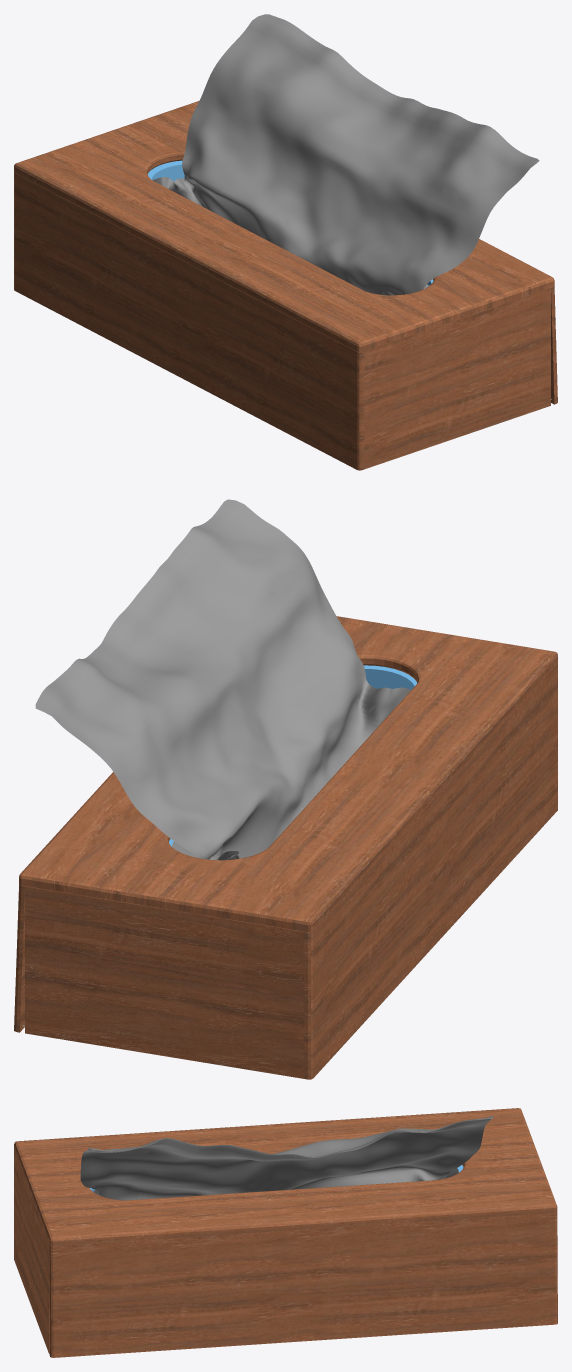
File: tissue-box.glb
The picture shows the model from 3 angles, top to bottom: view 1: azimuth 30°, elevation 25°; view 2: azimuth 150°, elevation 25°; view 3: azimuth 270°, elevation 25°; orthographic projection. The views are drawn at different scales.
Parts seen in each view (by area): view 1: Object_5, Object_7; view 2: Object_5, Object_7, Object_4; view 3: Object_5, Object_7.
Part boxes in pixels (x1,y1,x2,y2): Object_5: (14,101,557,470); Object_7: (152,14,539,295); Object_5: (14,616,557,1079); Object_7: (35,499,410,860); Object_4: (169,665,417,846); Object_5: (14,1108,557,1357); Object_7: (80,1116,493,1200).
Bounding box in the file's own units: 0.1686 × 0.1261 × 0.2871.
4 materials, 1 textured.
